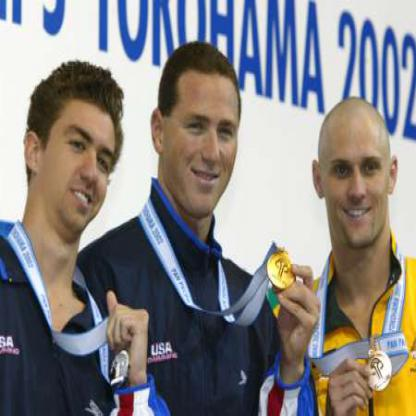face: (41, 73, 127, 235), (164, 46, 241, 215), (322, 98, 391, 249)
